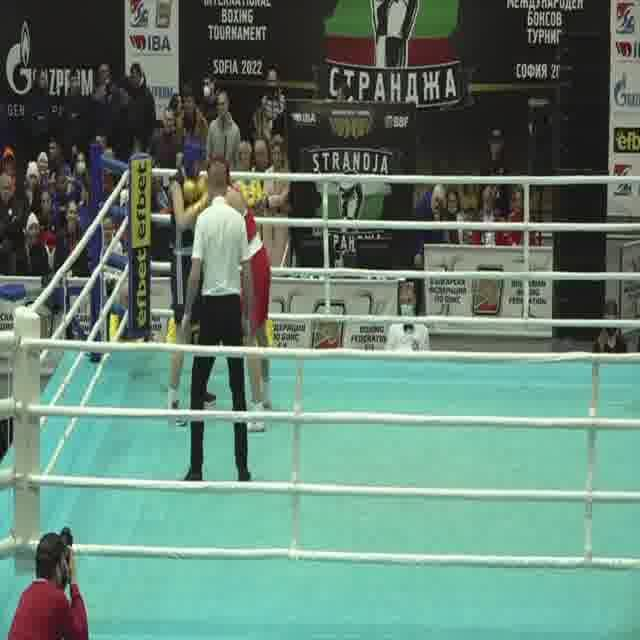blue-player: (166, 138, 222, 430)
red-player: (184, 153, 276, 437)
referee: (180, 160, 253, 486)
